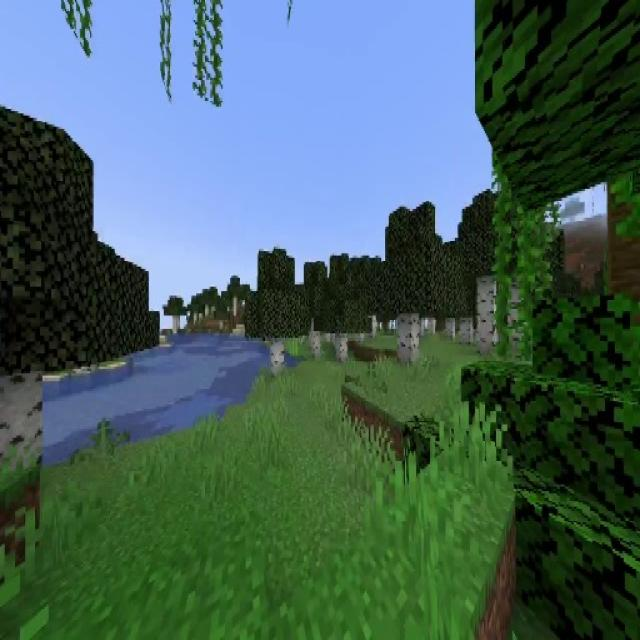birch: (0, 145, 153, 486), (451, 186, 526, 354), (373, 206, 446, 363), (248, 257, 308, 386), (318, 255, 372, 368), (291, 261, 339, 356), (164, 296, 188, 334), (224, 275, 245, 317)
birch_log: (0, 371, 44, 474), (478, 280, 497, 352), (397, 313, 418, 361), (271, 338, 285, 377), (336, 332, 350, 364), (310, 321, 320, 355), (460, 320, 472, 342), (446, 316, 456, 336), (429, 321, 436, 337)
